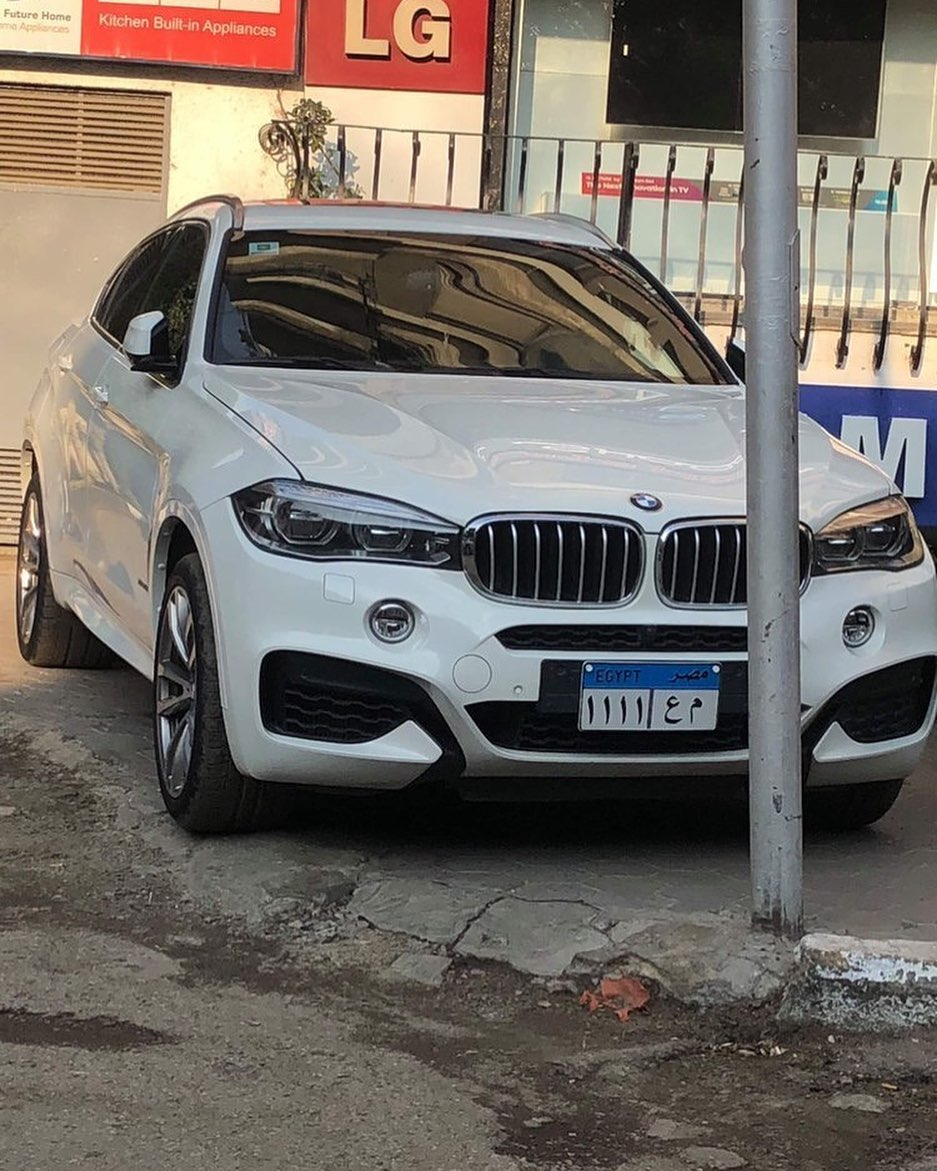carpl: (582, 663, 720, 735)
